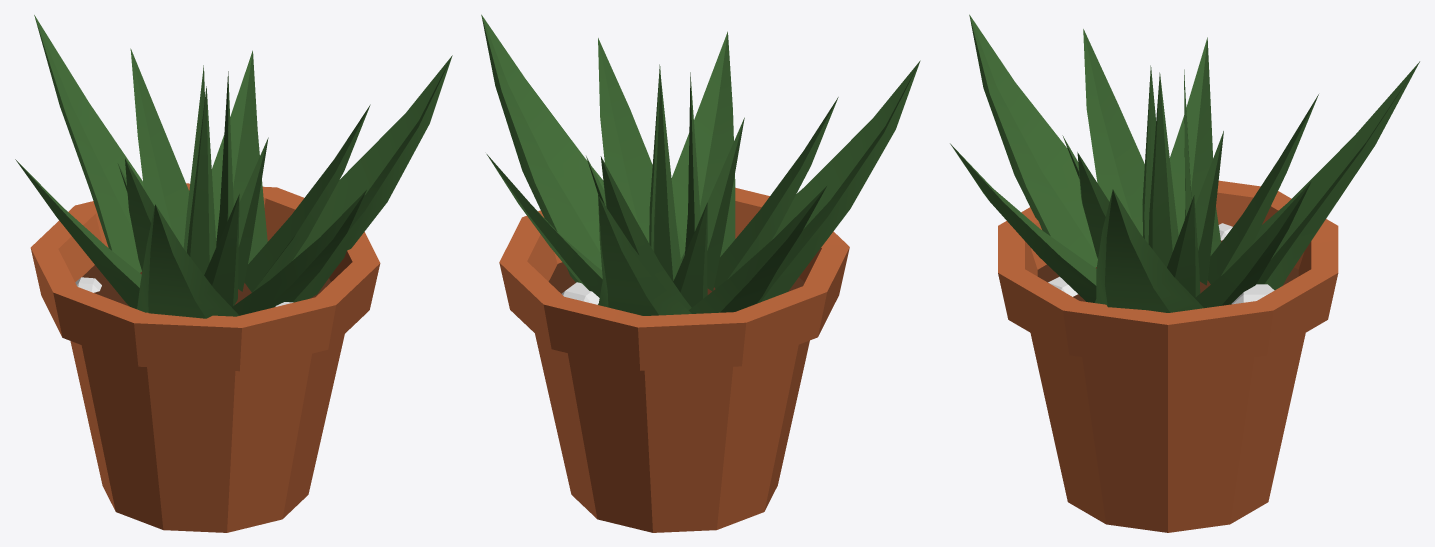
Rendered from PW_sculent02_M.fbx.
3 renders of one model, left to right at view 1: azimuth 30°, elevation 25°; view 2: azimuth 150°, elevation 25°; view 3: azimuth 270°, elevation 25°, orthographic.
Parts seen in each view (by area): view 1: pot, plant, soil; view 2: pot, plant, soil; view 3: pot, plant, rock.
Part boxes in pixels (x1,y1,x2,y2): pot: (30, 183, 380, 532); plant: (15, 15, 452, 318); soil: (82, 265, 330, 306); pot: (499, 187, 849, 532); plant: (481, 14, 920, 315); soil: (548, 262, 804, 294); pot: (998, 180, 1338, 532); plant: (950, 14, 1419, 312); rock: (1048, 223, 1274, 304).
Size of the model in its own units: 64.32 by 65.71 by 65.77.
Materials: 1 (1 with a texture image).
